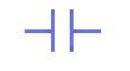Capacitor: (41, 5, 81, 56)
